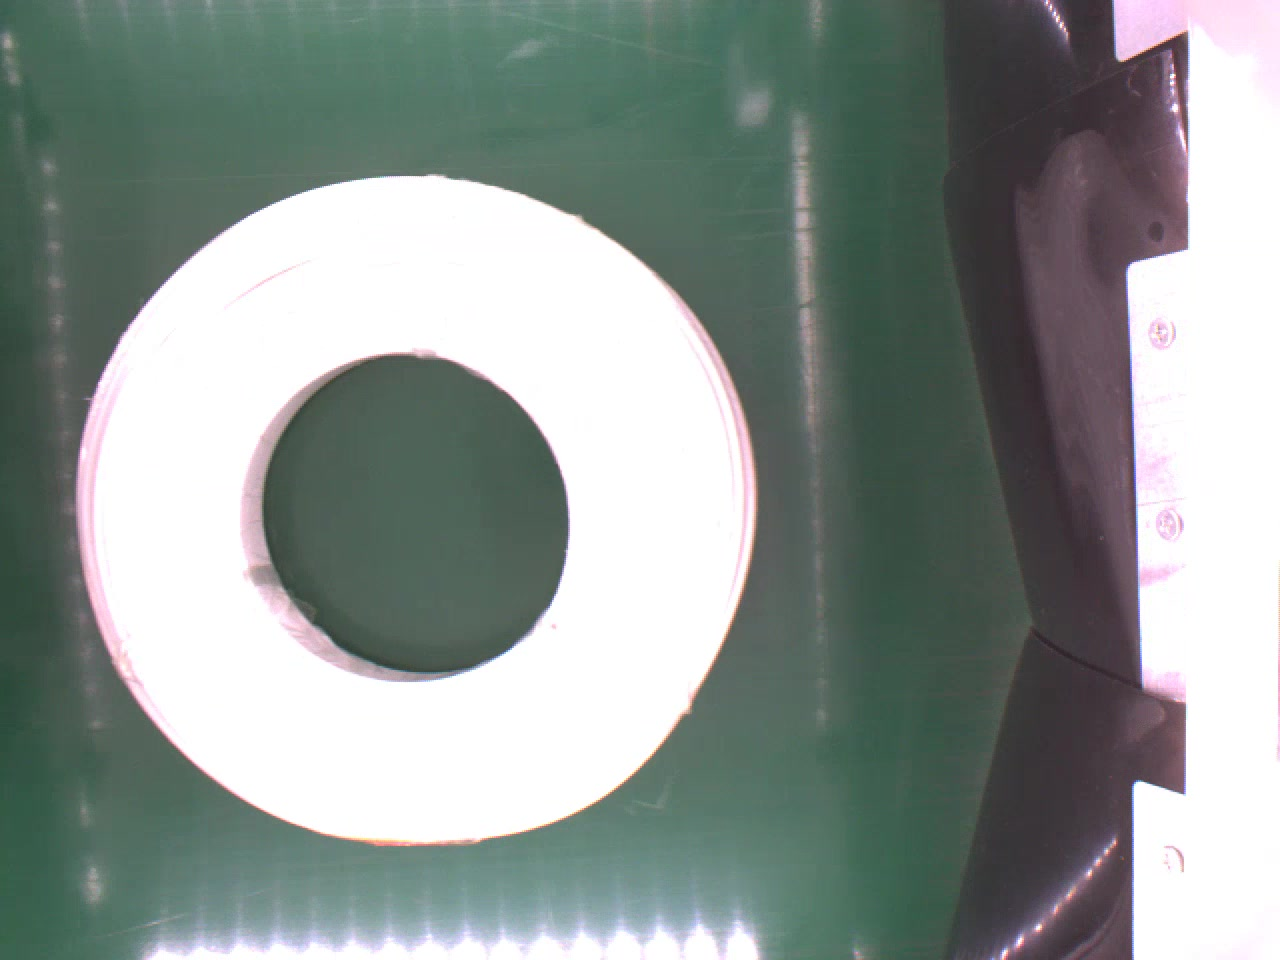white: (72, 169, 756, 844)
